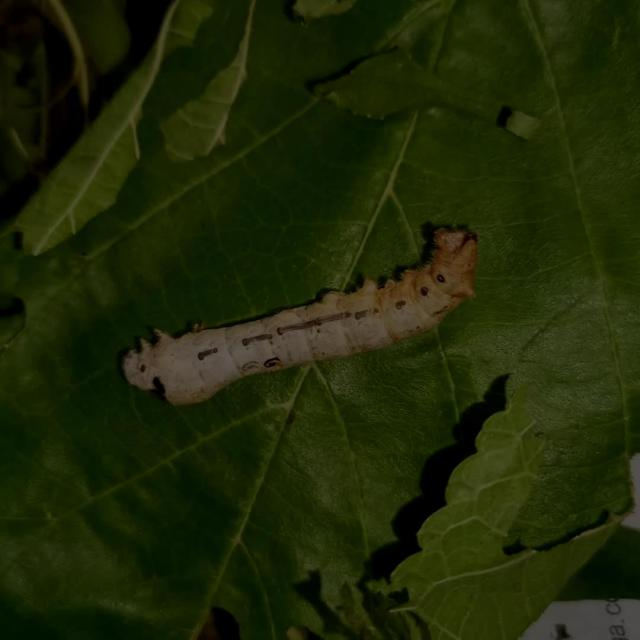Grasserie: (109, 216, 492, 410)
